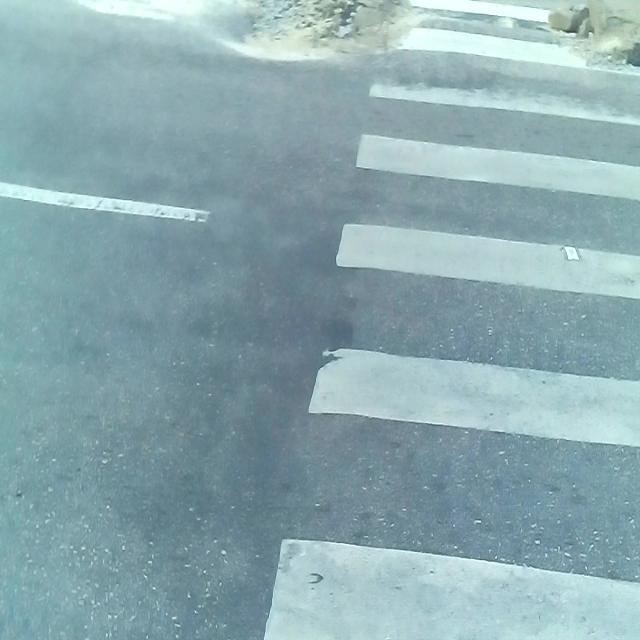crosswalk: (242, 0, 640, 640)
